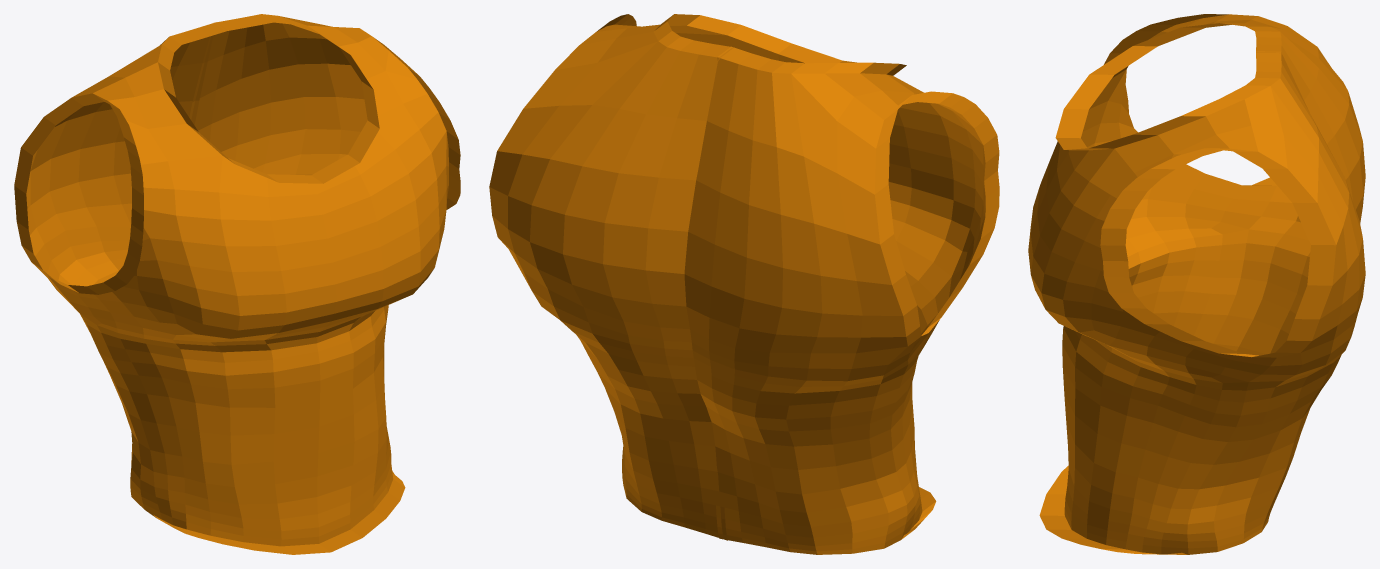
The model's file is Courage_Armor.FBX.
3 views of the same model, side by side, from view 1: azimuth 30°, elevation 25°; view 2: azimuth 150°, elevation 25°; view 3: azimuth 270°, elevation 25° (orthographic). The views are drawn at different scales.
Parts seen in each view (by area): view 1: Armor; view 2: Armor; view 3: Armor.
Part boxes in pixels (x1,y1,x2,y2): Armor: [14, 14, 460, 554]; Armor: [489, 14, 999, 554]; Armor: [1028, 14, 1365, 554].
Bounding box in the file's own units: 333 × 394 × 260.
